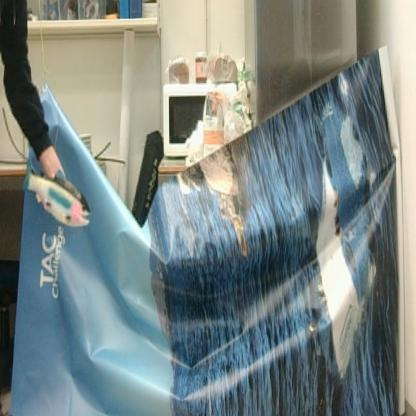rubberfish: (19, 154, 95, 232)
